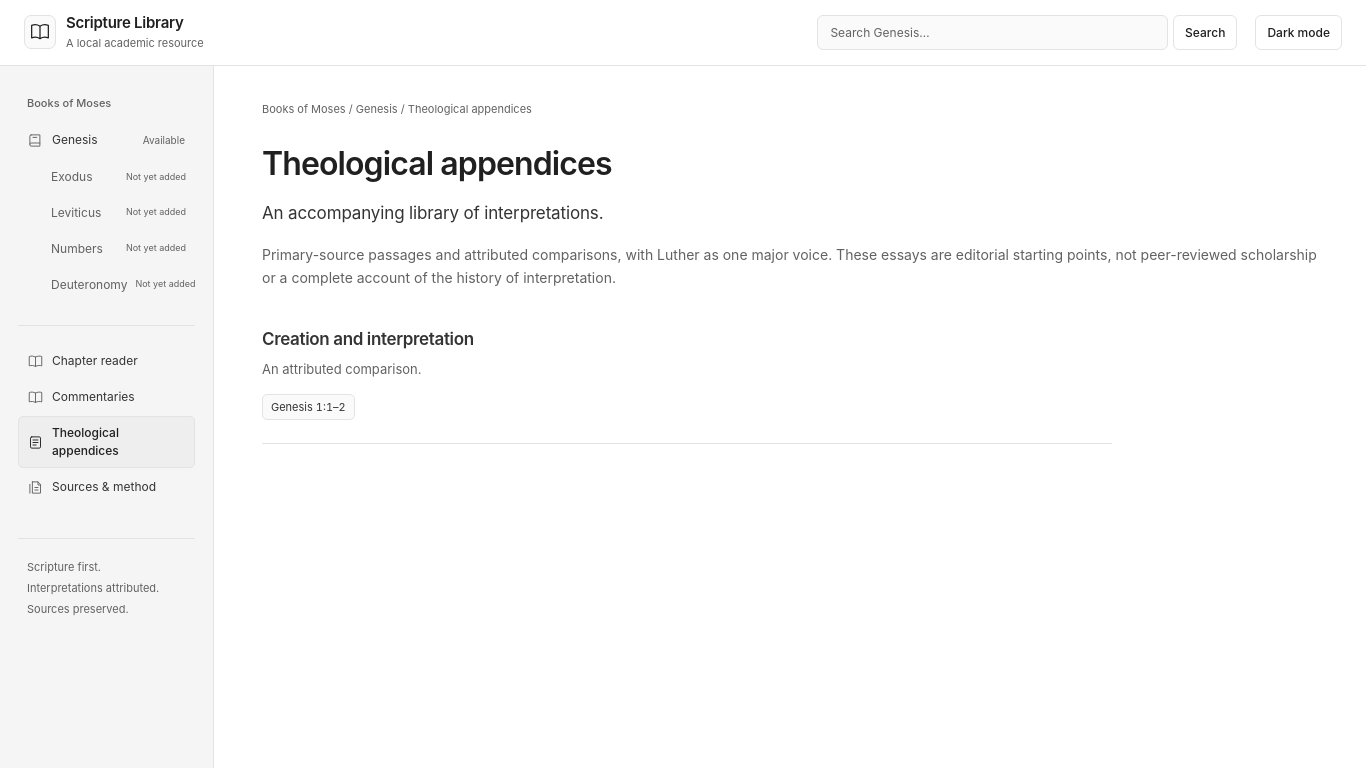
React reader (component-only mocked API) › opens appendix essays with exact quoted text, attribution, references and editorial warnings
Expected: the heading "Theological appendices" is shown, [262,144,612,183]
Expected: the text "not peer-reviewed scholarship" is shown, [262,246,1317,286]
Click the link "Creation and interpretation". click: click(368, 339)
box: [262,329,474,349]
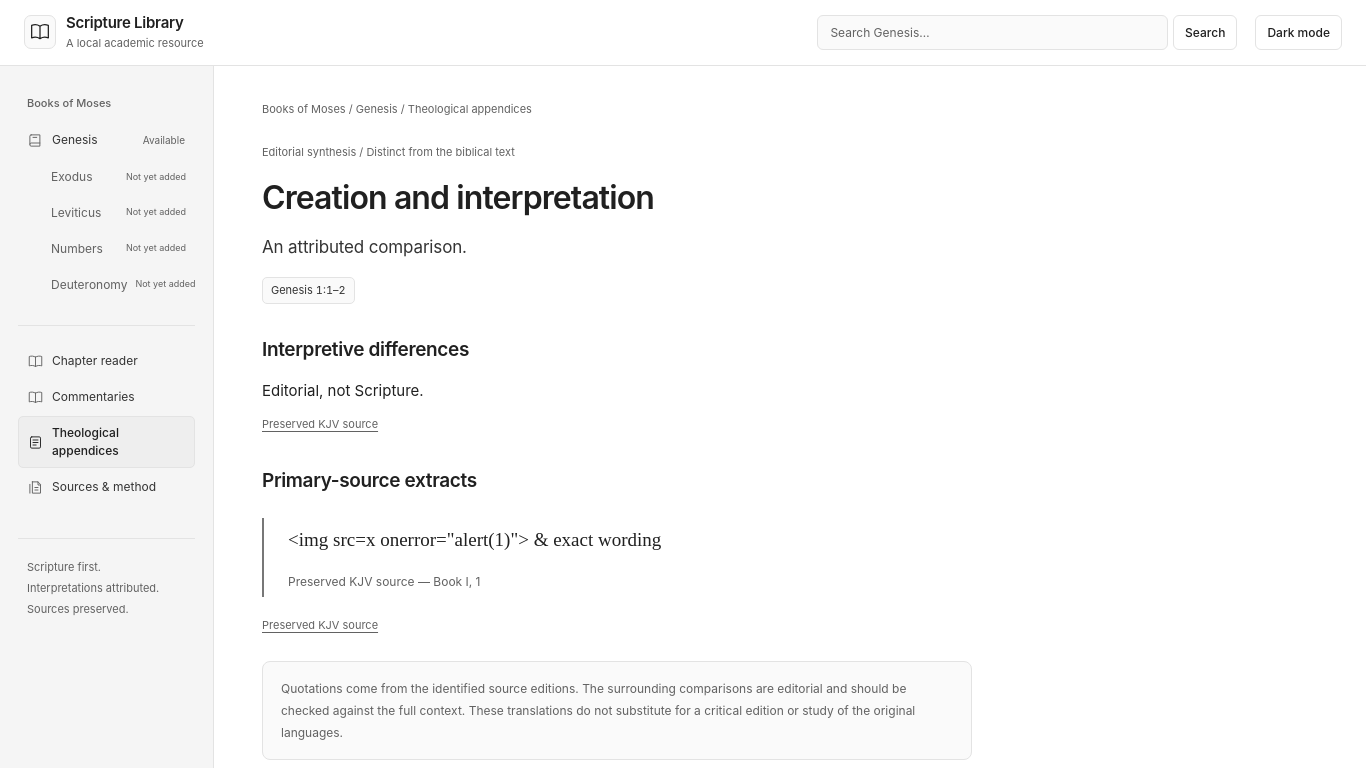
Result: the heading "Creation and interpretation" is shown at [262,178,654,217]
Result: the text "Preserved KJV source — Book I, 1" is shown at [288,574,480,589]
Result: the text "Editorial synthesis / Distinct from the biblical text" is shown at [262,145,515,159]
